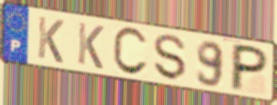9: (195, 40, 226, 89)
C: (111, 26, 150, 78)
K: (36, 14, 66, 66), (76, 20, 106, 71)
P: (227, 41, 271, 93)
S: (153, 33, 188, 83)
